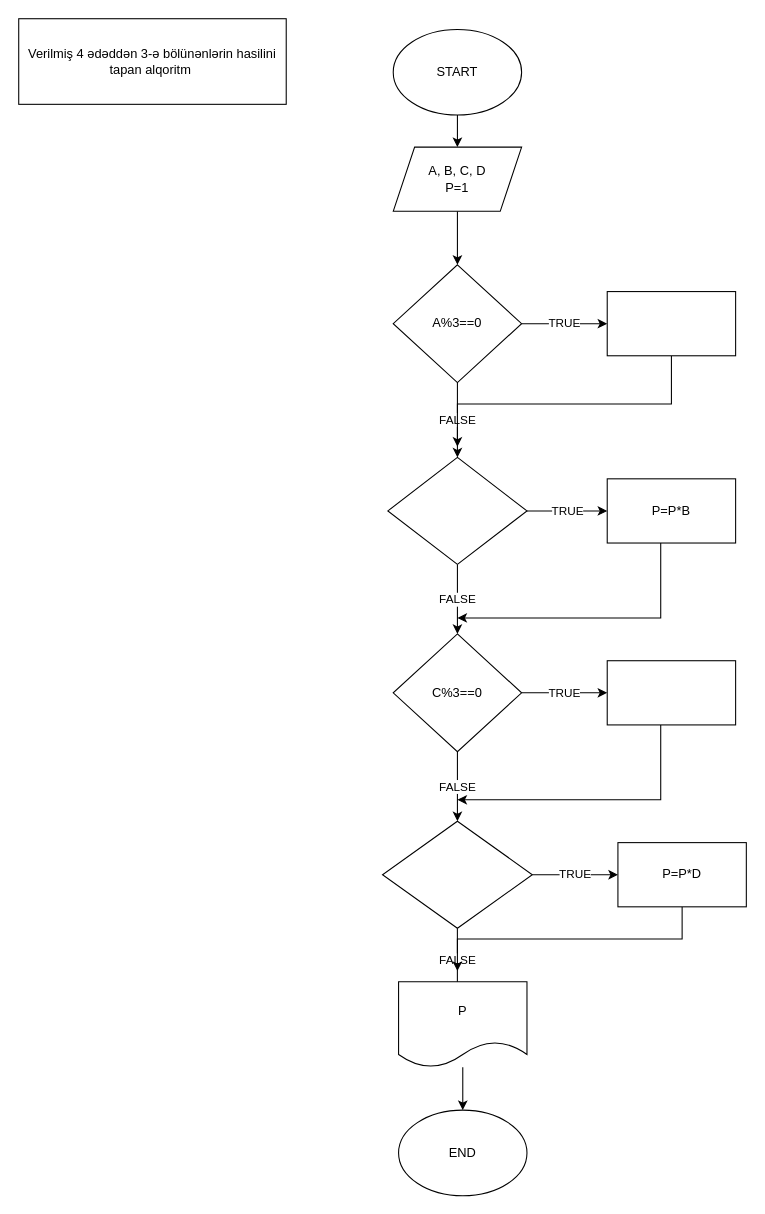
Image size: 765x1214. Some labels were removed from this diagram. Each missing label, with the centre of its shape:
B%3==0: [457,510]
D%3==0: [456,874]
P= P*A: [671,323]
P=P*C: [671,692]
